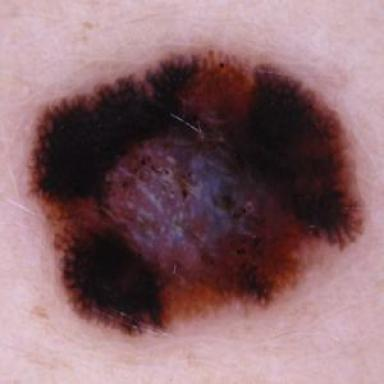Melanoma: (29, 49, 361, 334)
